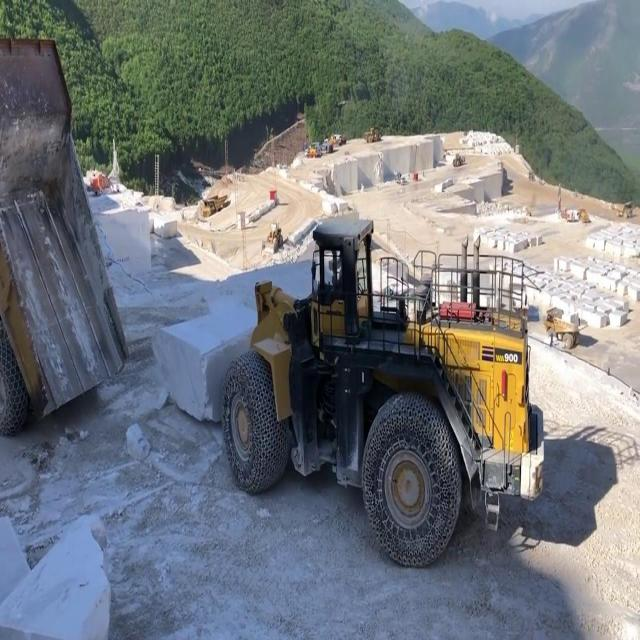Dump Truck: (0, 32, 130, 438)
Loader: (218, 208, 544, 571)
